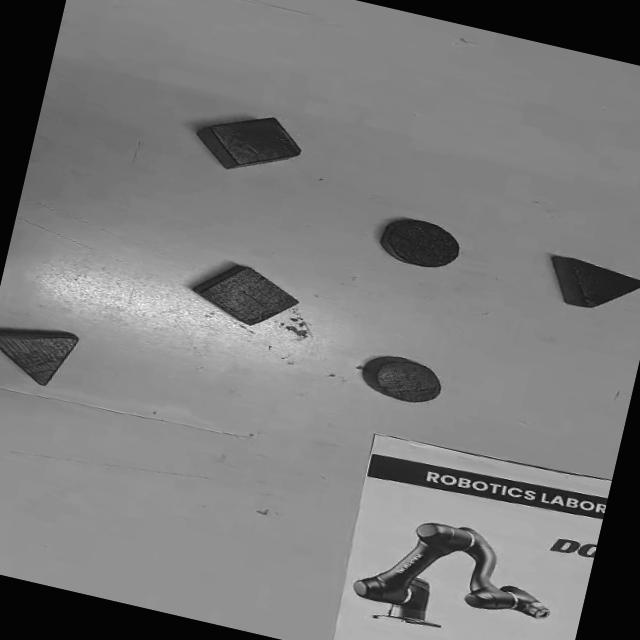bcircle: (376, 212, 466, 275)
bcube: (190, 256, 306, 335)
btriangle: (541, 252, 640, 321)
rcircle: (358, 349, 447, 408)
rcube: (192, 101, 310, 186)
rtriangle: (0, 315, 81, 392)
